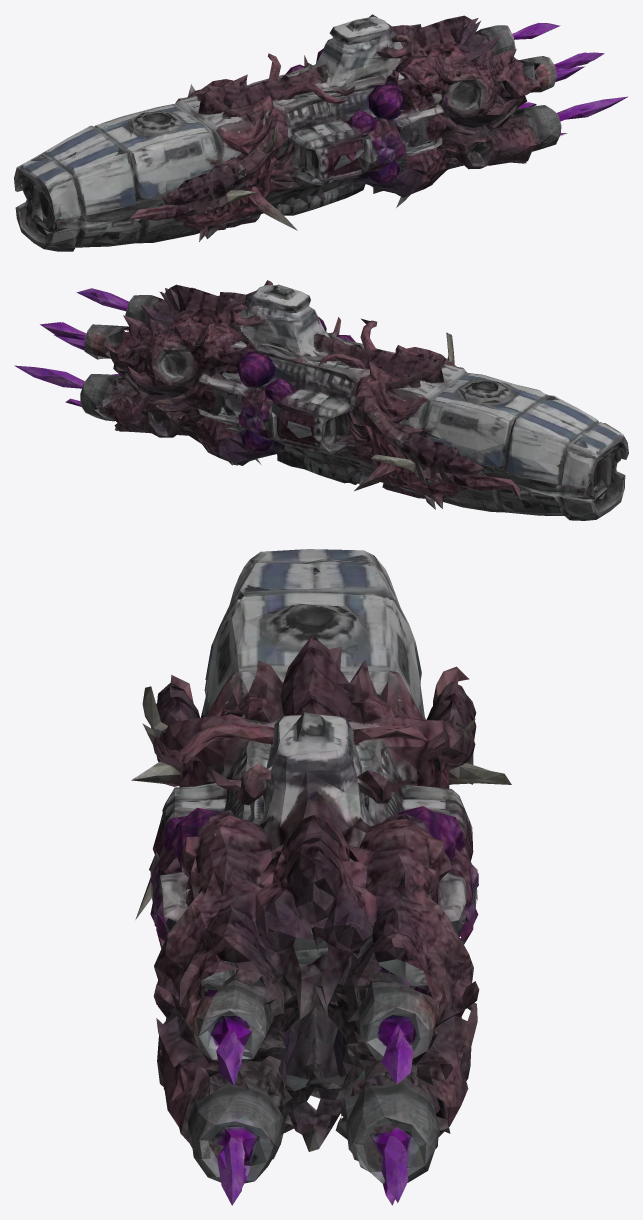
Rendered from 03_巡洋艦.glb.
The picture shows the model from 3 angles, top to bottom: view 1: azimuth 30°, elevation 25°; view 2: azimuth 150°, elevation 25°; view 3: azimuth 270°, elevation 25°; orthographic projection. The views are drawn at different scales.
Parts seen in each view (by area): view 1: part_1; view 2: part_1; view 3: part_1.
Part boxes in pixels (left/top/right/bottom): part_1: left=14, top=14, right=627, bottom=251; part_1: left=14, top=280, right=628, bottom=520; part_1: left=131, top=549, right=511, bottom=1205.
Size of the model in its own units: 0.9944 by 0.3115 by 0.2841.
Materials: 1 (1 with a texture image).
